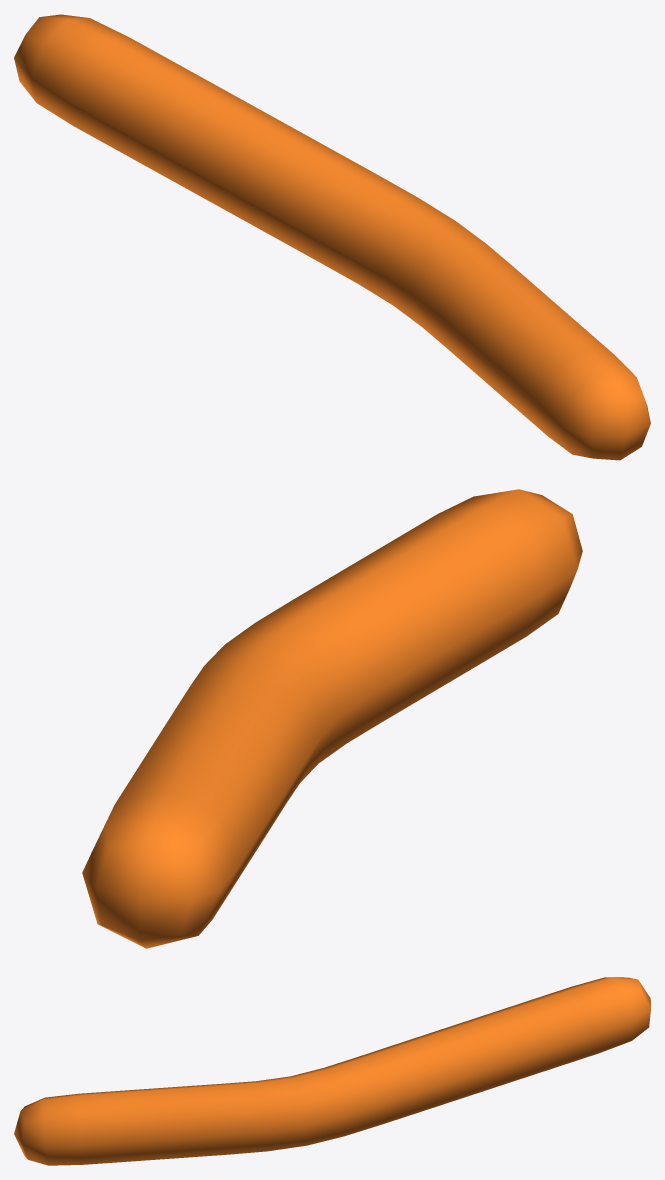
The model's file is GEO_Powertrain_HV_Front_Cable_R.glb.
3 renders of one model, top to bottom at view 1: azimuth 30°, elevation 25°; view 2: azimuth 150°, elevation 25°; view 3: azimuth 270°, elevation 25°, orthographic. The views are drawn at different scales.
Visible parts, largest first — view 1: GEO_Powertrain_HV_Front_Cable_R; view 2: GEO_Powertrain_HV_Front_Cable_R; view 3: GEO_Powertrain_HV_Front_Cable_R.
Part boxes in pixels (<box>): GEO_Powertrain_HV_Front_Cable_R: <box>14,14,650,460</box>; GEO_Powertrain_HV_Front_Cable_R: <box>82,489,582,948</box>; GEO_Powertrain_HV_Front_Cable_R: <box>14,977,650,1165</box>.
Bounding box in the file's own units: 0.085 × 0.0668 × 0.2849.
